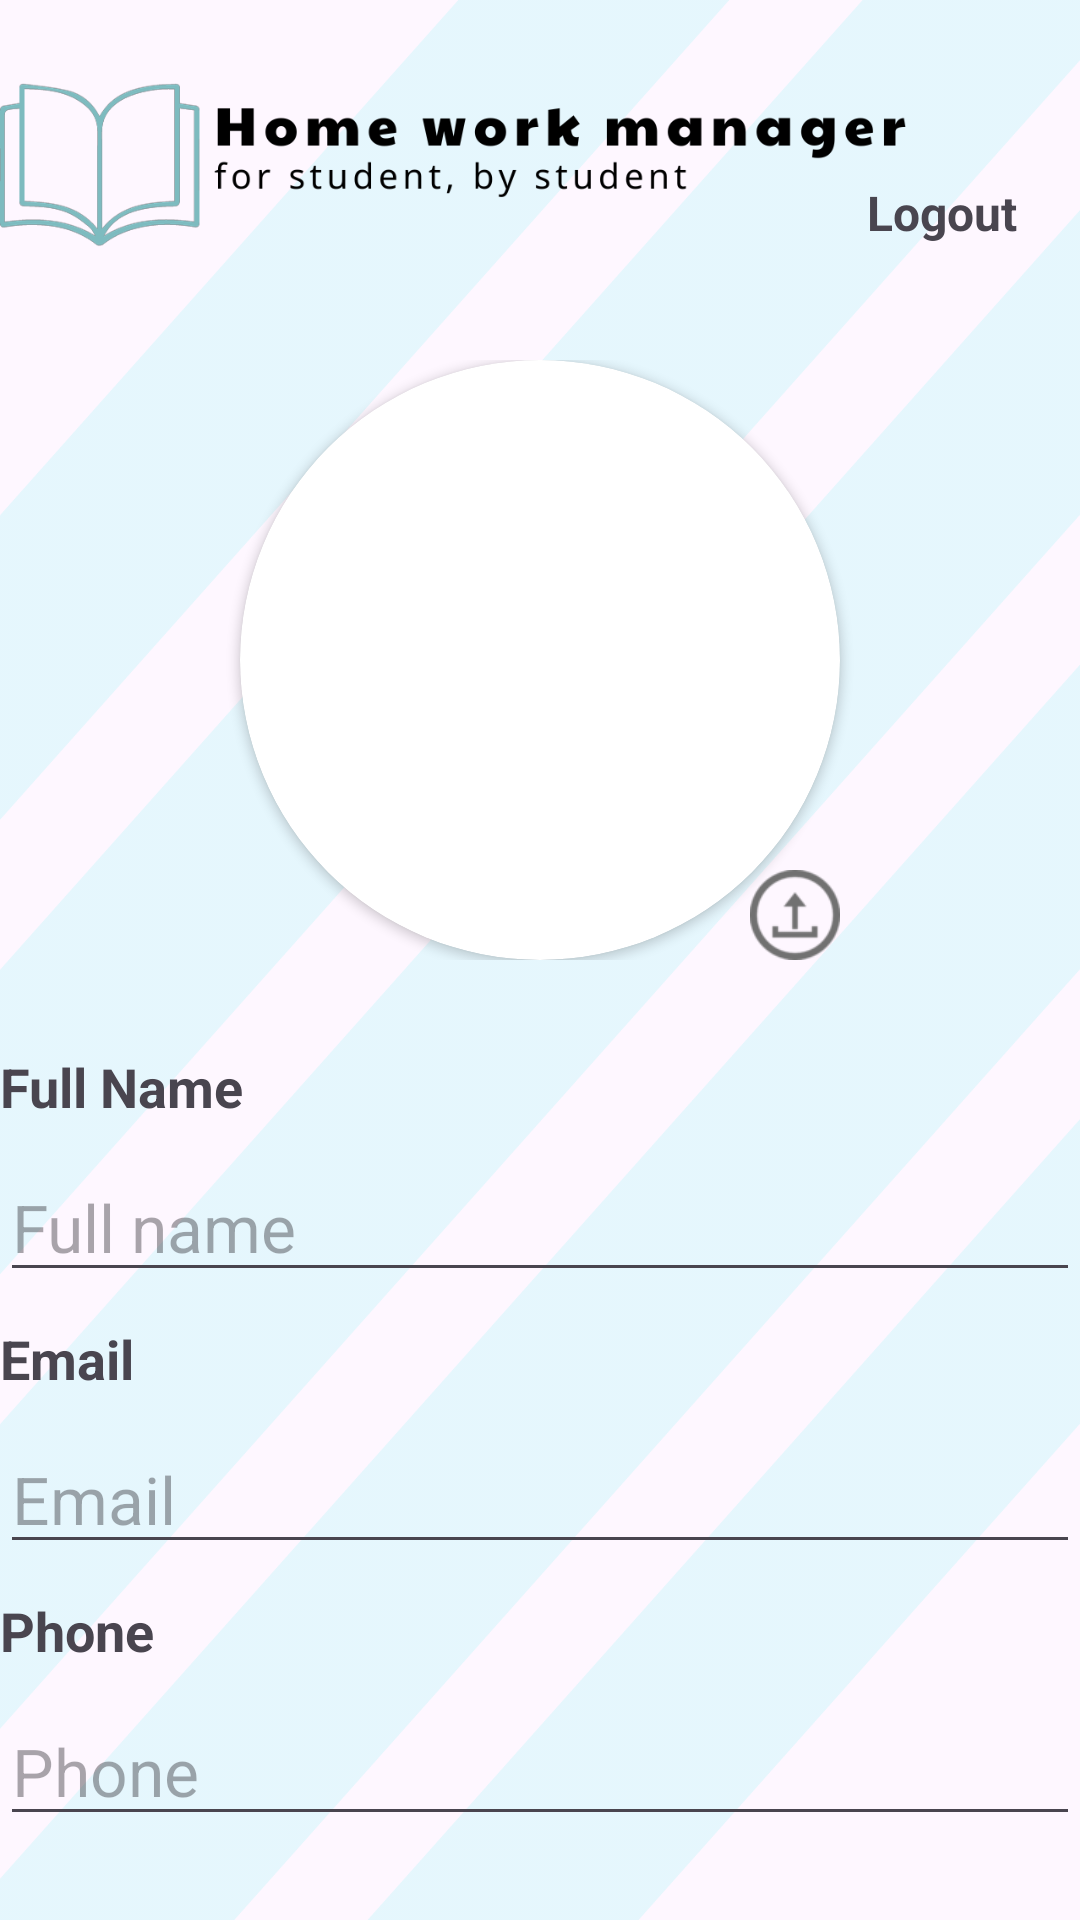

Where icons sit on this 1080*1920 app screen, as (x1, y1, x2, y2):
uploadpictureicon: (750, 870, 840, 960)
